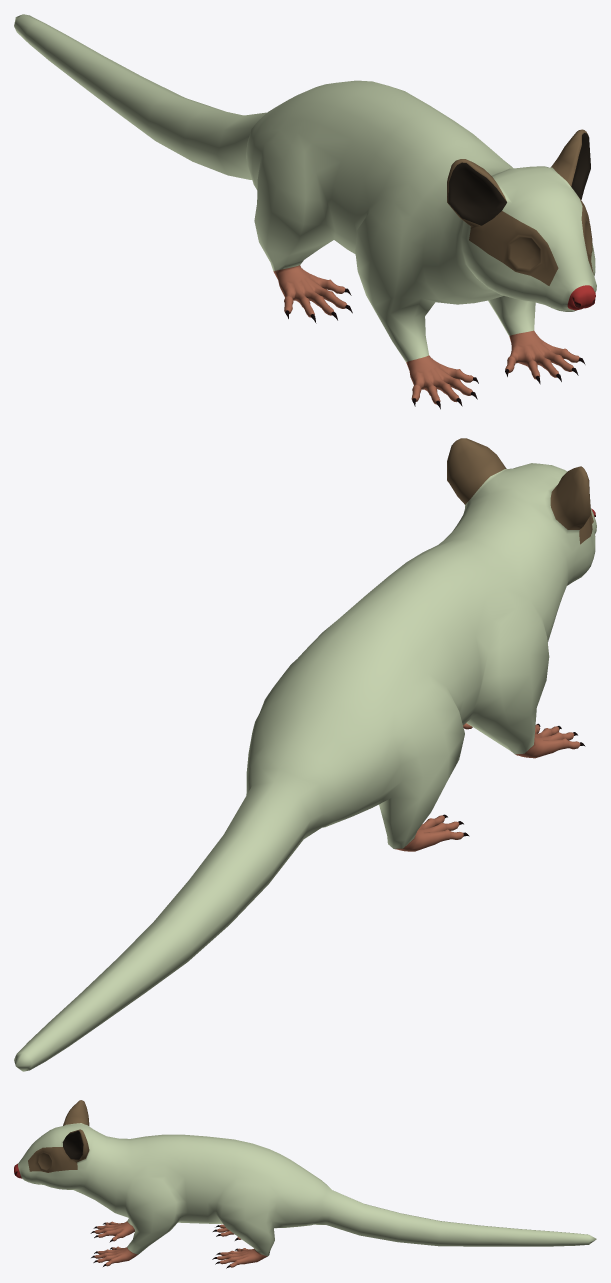
File: sugar_glider_sugar_glider.obj
3 renders of one model, top to bottom at view 1: azimuth 30°, elevation 25°; view 2: azimuth 150°, elevation 25°; view 3: azimuth 270°, elevation 25°, orthographic. The views are drawn at different scales.
Visible parts, largest first — view 1: sugar_glider; view 2: sugar_glider; view 3: sugar_glider.
Part boxes in pixels (left/top/right/bottom): sugar_glider: left=14, top=14, right=596, bottom=409; sugar_glider: left=14, top=438, right=596, bottom=1071; sugar_glider: left=14, top=1100, right=596, bottom=1268.
Bounding box in the file's own units: 0.0566 × 0.0768 × 0.3091.
